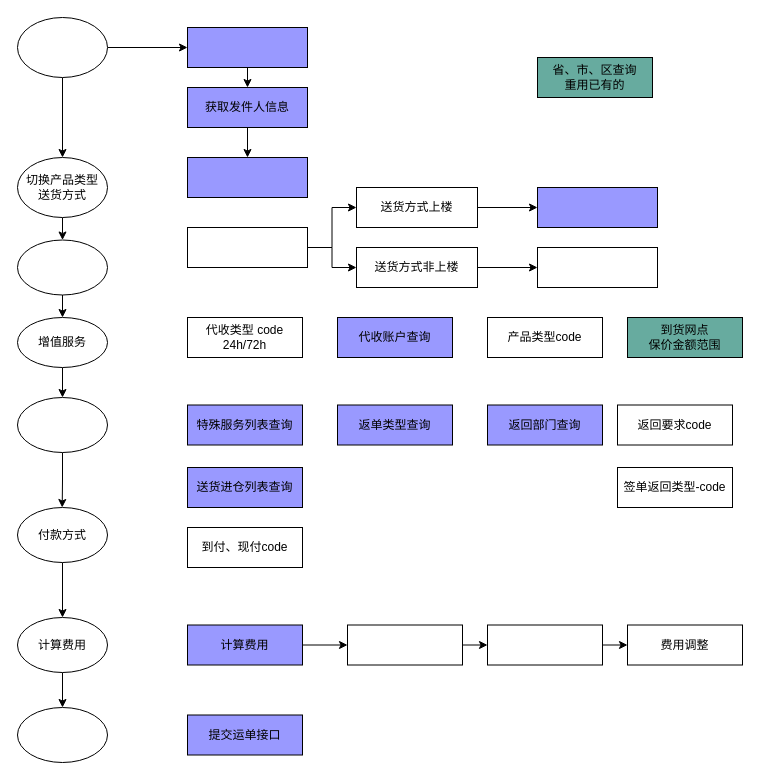
Some shapes in this 760 by 780 pixel diagram are drawn without their labels. Each missing label, with the centre of its shape:
"保存 不校验" belongs at (x=597, y=267).
"保存 货物尺寸、重量校验" belongs at (x=597, y=207).
"到货网点业务 校验通过？" belongs at (x=404, y=644).
"提交运单" belongs at (x=62, y=734).
"查询计价" belongs at (x=544, y=644).
"特殊服务" belongs at (x=62, y=424).
"获取到货网点" belongs at (x=247, y=177).
"获取运单基本信息" belongs at (x=247, y=47).
"货物信息 维护" belongs at (x=62, y=267).
"输入运单号" belongs at (x=62, y=47).
"选择送货方式， 送货上楼？" belongs at (x=247, y=247).
